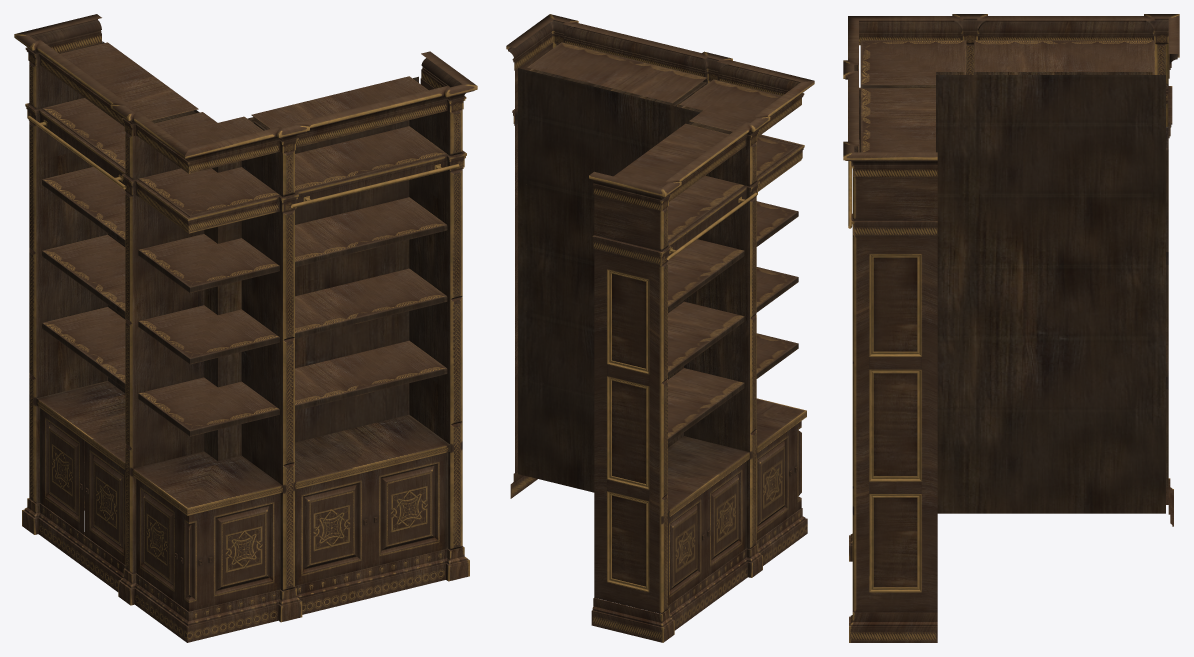
File: SM_Bookshelf_Outward.fbx
3 views of the same model, side by side, from view 1: azimuth 30°, elevation 25°; view 2: azimuth 150°, elevation 25°; view 3: azimuth 270°, elevation 25° (orthographic). The views are drawn at different scales.
Parts seen in each view (by area): view 1: SM_Bookshelf_Outward_LOD0; view 2: SM_Bookshelf_Outward_LOD0; view 3: SM_Bookshelf_Outward_LOD0.
Boxes of the visible parts, x1,y1,x2,y2 form: SM_Bookshelf_Outward_LOD0: (14,14,477,642); SM_Bookshelf_Outward_LOD0: (506,14,814,642); SM_Bookshelf_Outward_LOD0: (843,14,1179,642).
Size of the model in its own units: 235 by 234 by 375.
1 material, 1 textured.
